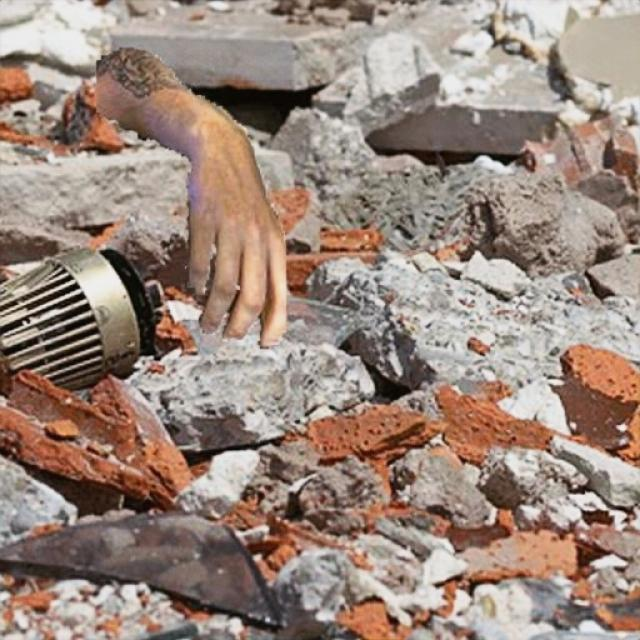Person in Rubble: (96, 48, 285, 348)
